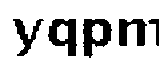m: (114, 12, 160, 52)
p: (79, 15, 114, 60)
q: (48, 16, 80, 60)
y: (8, 13, 44, 60)
